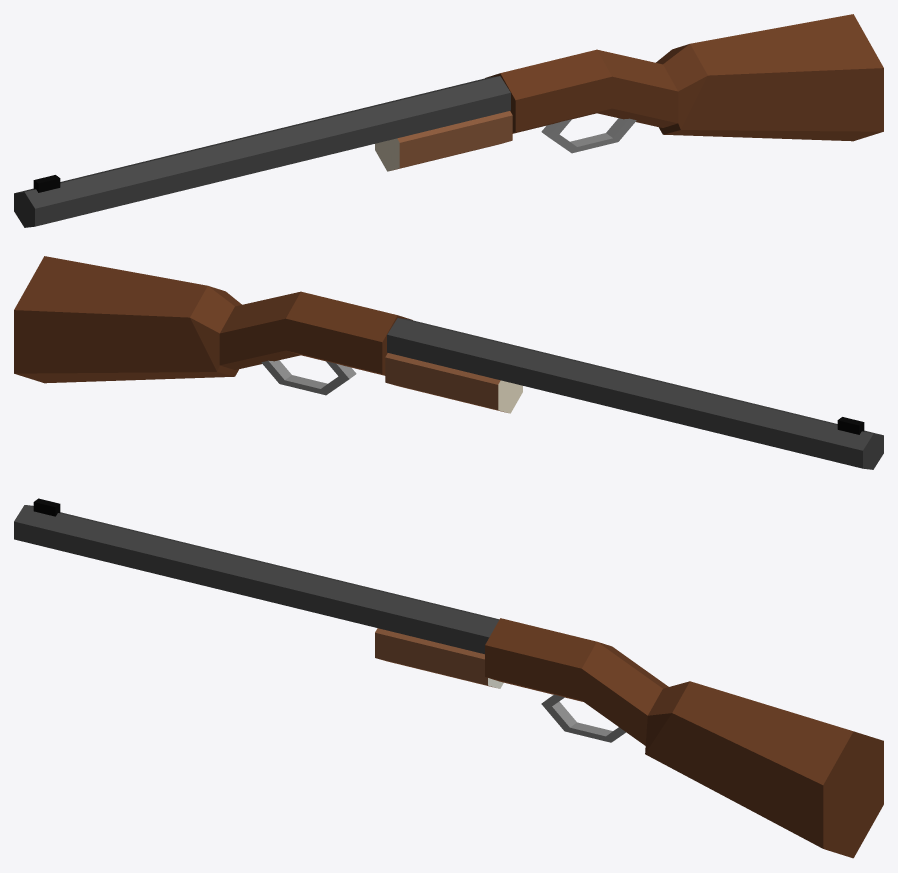
Rendered from SingleBarrelShotgun.fbx.
3 views of the same model, one above another, from view 1: azimuth 30°, elevation 25°; view 2: azimuth 150°, elevation 25°; view 3: azimuth 330°, elevation 25° (orthographic).
Visible parts, largest first — view 1: SingleBarrelShotgun; view 2: SingleBarrelShotgun; view 3: SingleBarrelShotgun.
Part boxes in pixels (x1,y1,x2,y2): SingleBarrelShotgun: (14, 14, 883, 227); SingleBarrelShotgun: (14, 256, 883, 469); SingleBarrelShotgun: (14, 498, 883, 858).
Size of the model in its own units: 138 by 25.22 by 17.49.
Materials: 1 (1 with a texture image).
